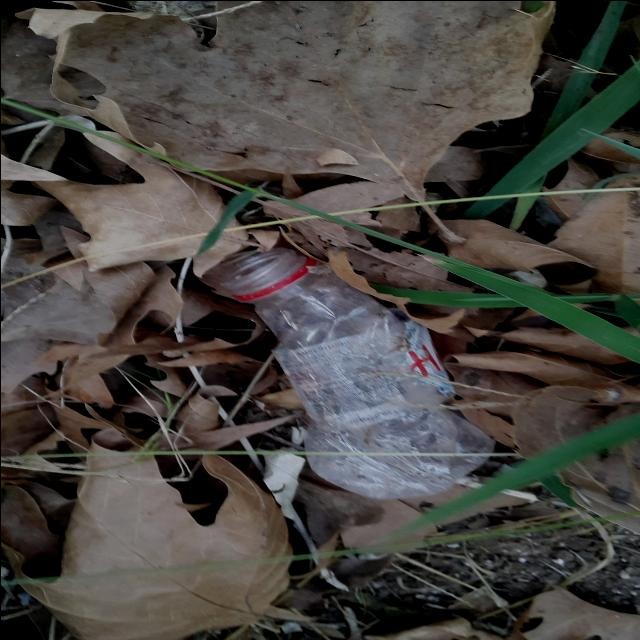Clear plastic bottle: (220, 247, 494, 498)
